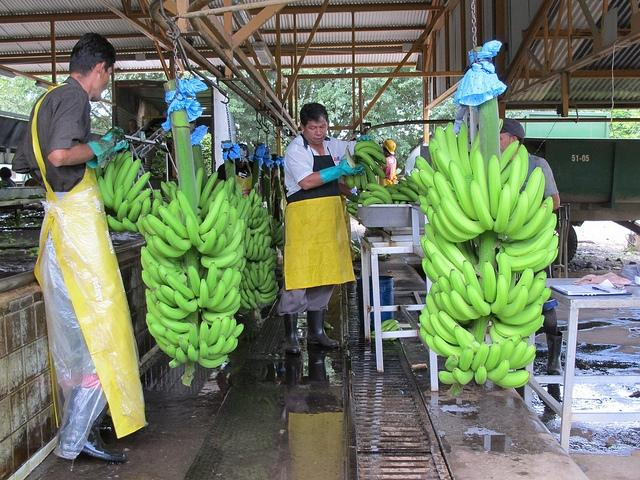banana: (432, 171, 473, 221), (508, 166, 542, 222), (439, 196, 486, 235), (449, 160, 479, 220), (501, 226, 554, 258), (445, 122, 474, 180), (504, 206, 548, 241), (424, 240, 464, 274), (419, 169, 459, 202), (490, 314, 545, 338), (434, 232, 466, 273), (198, 188, 226, 234), (472, 149, 491, 215), (431, 252, 467, 286), (438, 310, 476, 342), (470, 180, 494, 230), (432, 212, 469, 243), (502, 191, 528, 235), (141, 246, 181, 274), (496, 303, 542, 326), (488, 319, 522, 349), (177, 190, 200, 234), (206, 230, 242, 258), (506, 268, 534, 304), (530, 196, 554, 238), (499, 284, 528, 318), (492, 184, 512, 233), (430, 312, 460, 344), (434, 292, 461, 327), (488, 154, 502, 220), (462, 260, 485, 300), (440, 290, 470, 320), (450, 290, 481, 319), (123, 172, 151, 204), (199, 212, 228, 242), (458, 120, 473, 178), (508, 154, 522, 216), (122, 158, 141, 202), (466, 283, 491, 316), (450, 269, 472, 306), (152, 234, 187, 257), (112, 150, 132, 190), (165, 273, 195, 299), (433, 334, 463, 360), (454, 325, 480, 354), (165, 226, 193, 252), (209, 267, 232, 298), (509, 344, 536, 370), (436, 149, 454, 188), (210, 286, 238, 311), (114, 156, 133, 192), (491, 274, 508, 314), (500, 140, 519, 174), (434, 126, 452, 161), (158, 301, 190, 320), (483, 260, 497, 303), (206, 280, 226, 310), (494, 338, 514, 368), (146, 214, 168, 241), (525, 278, 545, 306), (498, 252, 512, 292), (486, 358, 509, 382), (517, 144, 529, 190), (128, 189, 151, 213), (97, 176, 113, 210), (212, 316, 230, 346), (196, 227, 216, 254), (471, 342, 489, 372), (216, 292, 241, 313), (484, 341, 501, 371), (496, 371, 530, 386), (224, 270, 242, 298), (155, 287, 179, 308), (509, 340, 527, 368), (186, 213, 201, 246), (162, 198, 179, 226), (147, 235, 168, 257), (492, 376, 529, 388), (164, 328, 190, 345), (353, 150, 376, 169), (197, 354, 228, 368), (415, 156, 435, 177), (206, 318, 221, 346), (188, 264, 201, 296), (208, 232, 226, 255), (458, 346, 474, 371), (160, 284, 178, 306), (250, 206, 266, 230), (464, 239, 478, 266), (206, 262, 217, 295), (200, 194, 214, 219), (112, 184, 124, 213), (425, 260, 440, 283), (428, 186, 441, 212), (354, 141, 382, 152), (198, 320, 209, 348), (128, 200, 142, 222), (438, 275, 452, 297), (210, 180, 224, 201), (122, 216, 140, 232), (158, 264, 171, 286), (226, 205, 237, 230), (142, 269, 154, 291), (189, 323, 199, 349), (361, 196, 386, 206), (239, 200, 251, 220), (176, 347, 190, 364), (260, 292, 278, 304), (199, 340, 209, 360), (532, 270, 546, 284), (232, 324, 245, 338), (252, 196, 262, 214), (248, 243, 258, 261), (237, 198, 246, 218), (246, 237, 254, 259), (391, 194, 414, 201), (246, 227, 252, 252), (344, 175, 354, 189), (246, 288, 256, 302), (258, 260, 264, 283), (240, 298, 252, 309), (418, 194, 429, 205), (258, 268, 264, 288), (207, 354, 226, 360), (239, 256, 246, 272), (235, 182, 242, 198), (378, 152, 386, 164), (398, 179, 409, 187), (357, 159, 370, 165), (502, 236, 515, 242), (522, 336, 530, 345), (243, 221, 248, 233), (384, 184, 398, 188), (254, 193, 259, 204), (245, 210, 248, 223), (198, 250, 202, 258), (268, 236, 271, 246), (174, 263, 181, 266), (385, 187, 392, 190), (368, 180, 371, 184), (274, 252, 277, 255)
